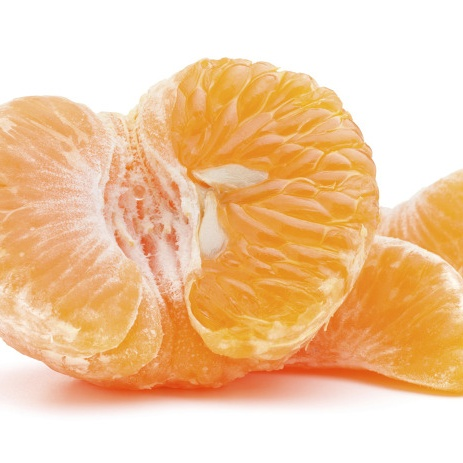mandarin: (1, 59, 381, 393), (276, 236, 463, 396), (375, 170, 463, 270)
